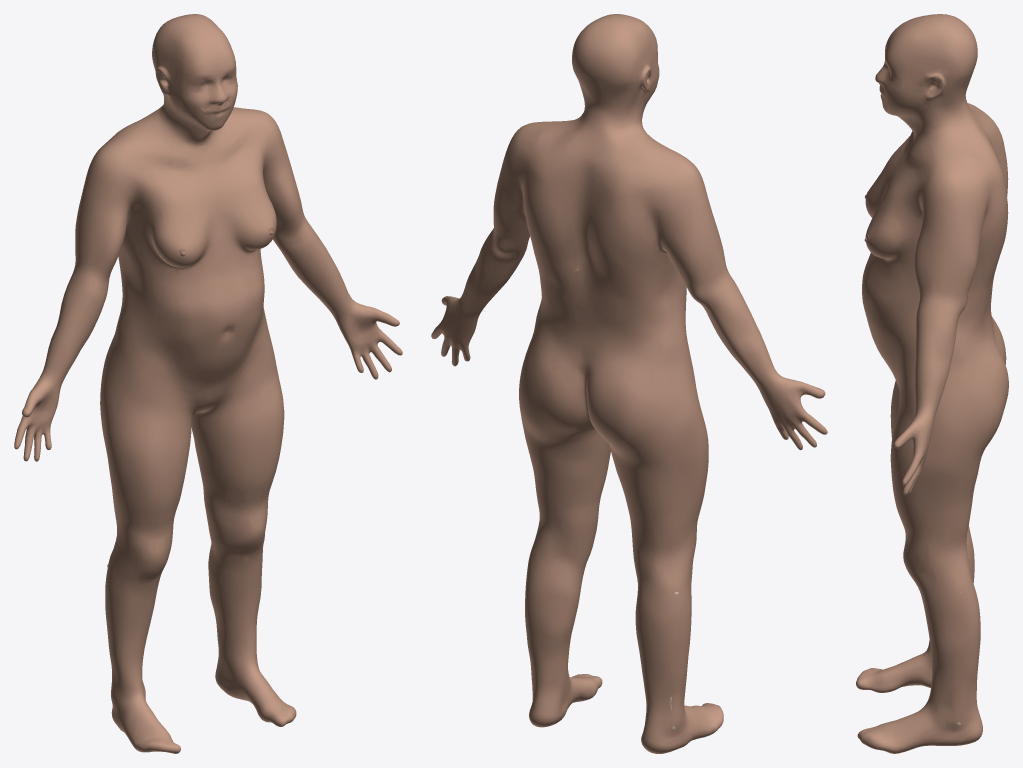
Rendered from female-body.glb.
3 views of the same model, side by side, from view 1: azimuth 30°, elevation 25°; view 2: azimuth 150°, elevation 25°; view 3: azimuth 270°, elevation 25° (orthographic).
Parts seen in each view (by area): view 1: skin; view 2: skin; view 3: skin.
Boxes of the visible parts, left/top/right/bottom form: skin: left=14, top=14, right=402, bottom=753; skin: left=431, top=14, right=827, bottom=753; skin: left=856, top=14, right=1008, bottom=753.
Size of the model in its own units: 0.9616 by 1.66 by 0.3271.
